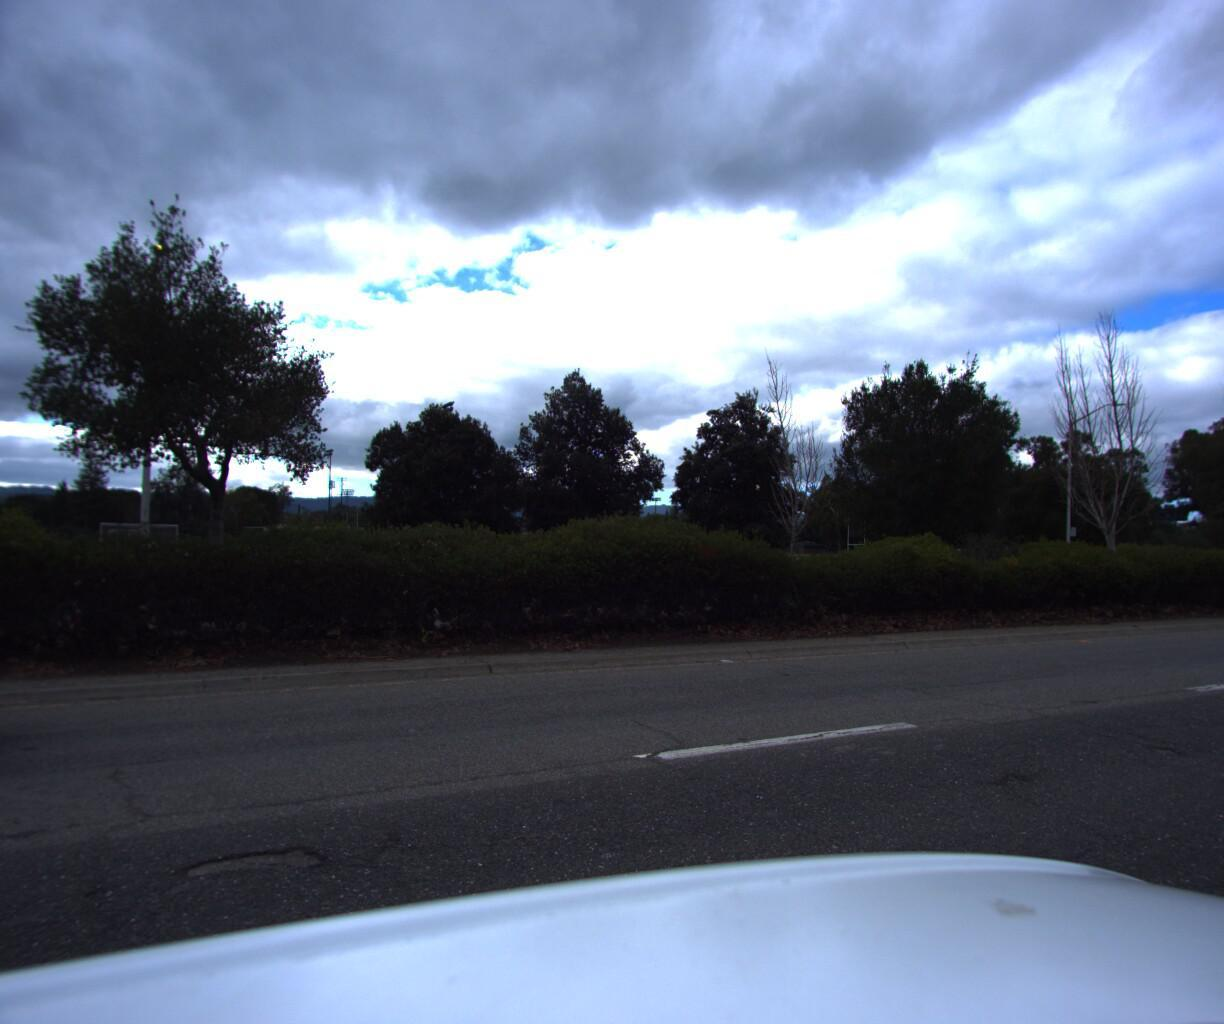car: (0, 530, 35, 890)
